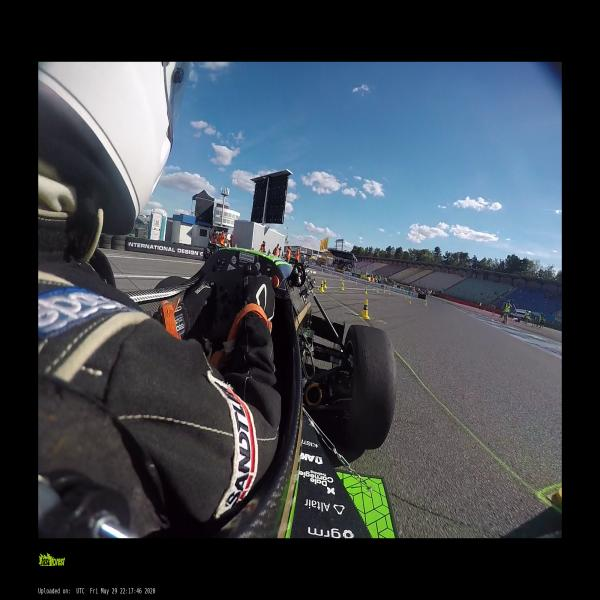yellow_cone: (360, 299, 370, 320), (320, 282, 324, 291), (323, 279, 326, 288), (341, 282, 344, 290), (364, 287, 367, 294), (423, 300, 427, 305), (409, 298, 411, 304), (376, 288, 378, 293), (388, 290, 390, 295), (383, 288, 385, 293), (356, 280, 357, 284), (405, 294, 406, 297)
